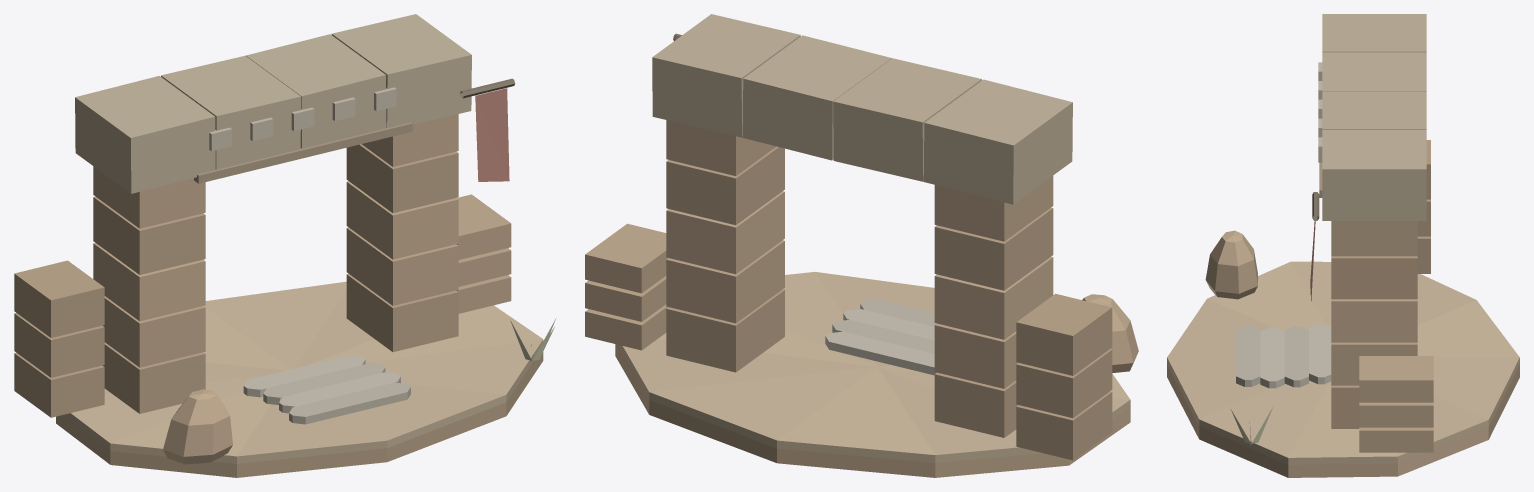
3 views of the same model, side by side, from view 1: azimuth 30°, elevation 25°; view 2: azimuth 150°, elevation 25°; view 3: azimuth 270°, elevation 25° (orthographic). The views are drawn at different scales.
Visible parts, largest first — view 1: S07; view 2: S07; view 3: S07.
Boxes of the visible parts, <box> form: S07: <box>14,14,555,477</box>; S07: <box>585,14,1138,477</box>; S07: <box>1167,14,1519,477</box>.
Size of the model in its own units: 4.46 by 2.84 by 3.19.
